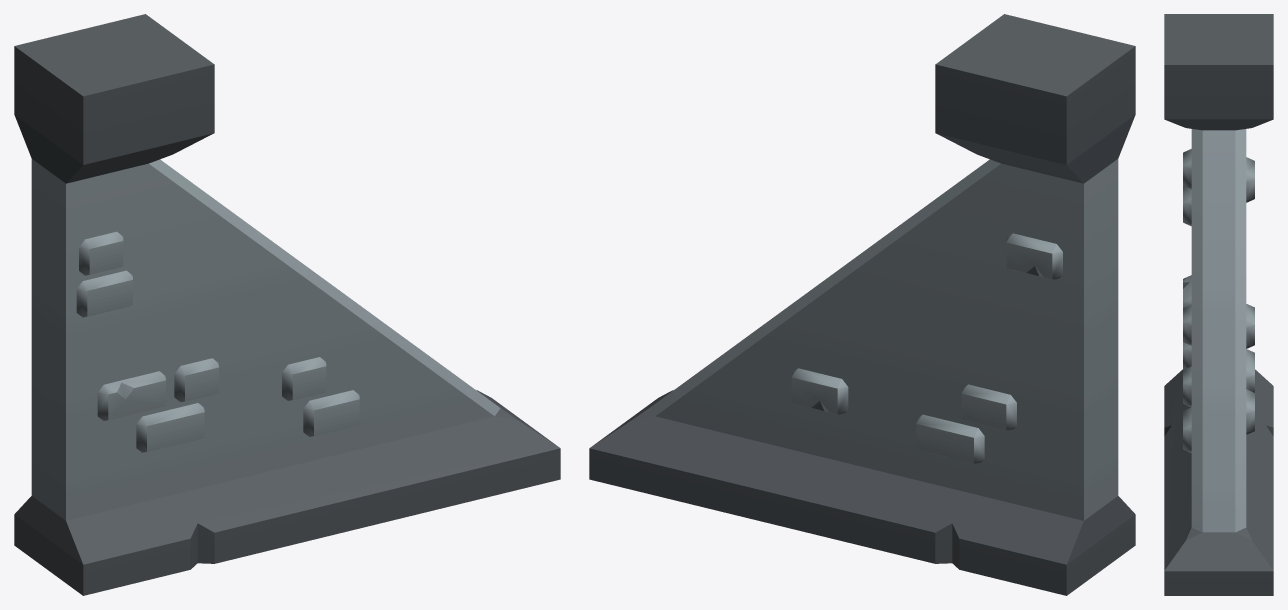
Rendered from wall_sloped.glb.
3 views of the same model, side by side, from view 1: azimuth 30°, elevation 25°; view 2: azimuth 150°, elevation 25°; view 3: azimuth 270°, elevation 25° (orthographic). The views are drawn at different scales.
Visible parts, largest first — view 1: wall_sloped; view 2: wall_sloped; view 3: wall_sloped.
Part boxes in pixels (bbox=[...]): wall_sloped: bbox=[14, 14, 560, 595]; wall_sloped: bbox=[589, 14, 1135, 595]; wall_sloped: bbox=[1164, 14, 1273, 595].
Size of the model in its own units: 4 by 4 by 1.
Materials: 1 (1 with a texture image).
